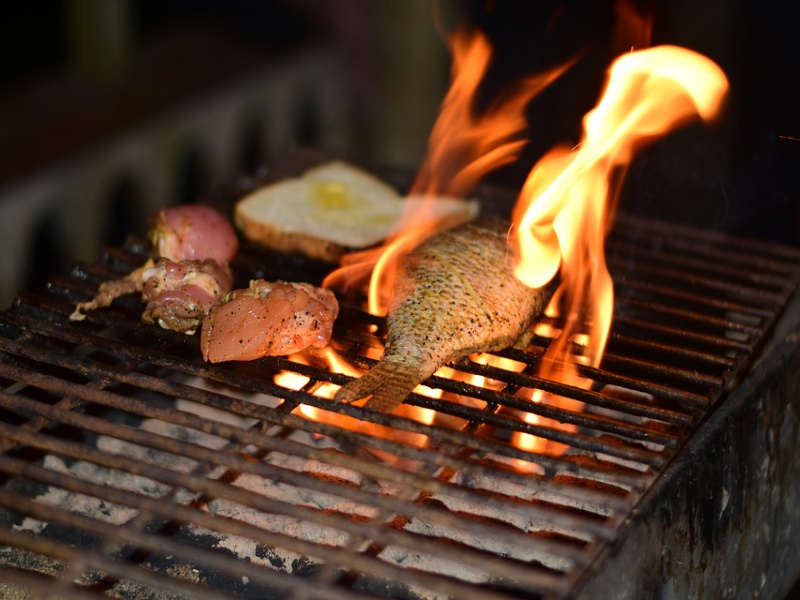fire: (512, 10, 729, 367), (414, 25, 510, 196), (278, 348, 366, 427), (346, 242, 404, 316)
